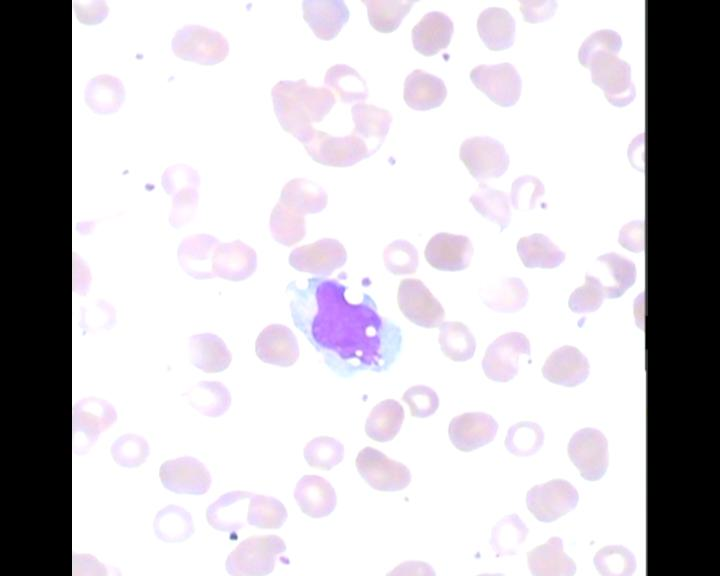mono: (281, 268, 409, 381)
